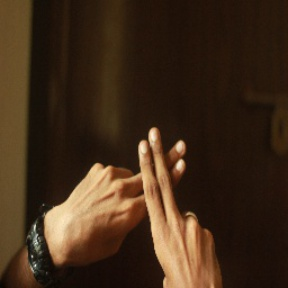F: (98, 108, 213, 246)
